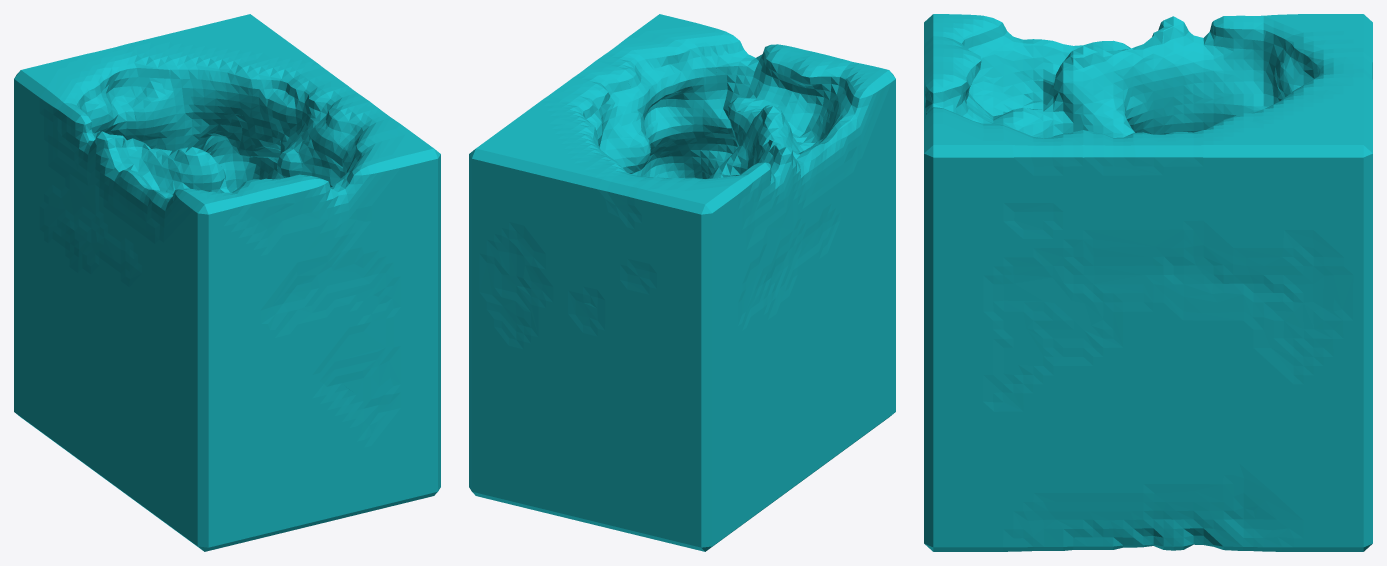
3 renders of one model, left to right at view 1: azimuth 30°, elevation 25°; view 2: azimuth 150°, elevation 25°; view 3: azimuth 270°, elevation 25°, orthographic. The views are drawn at different scales.
Parts seen in each view (by area): view 1: Liquid_Domain; view 2: Liquid_Domain; view 3: Liquid_Domain.
Boxes of the visible parts, box(x1,y1,x2,y2) form: Liquid_Domain: box(14, 14, 440, 551); Liquid_Domain: box(469, 14, 895, 551); Liquid_Domain: box(924, 14, 1372, 551).
Size of the model in its own units: 79.09 by 108 by 108.
